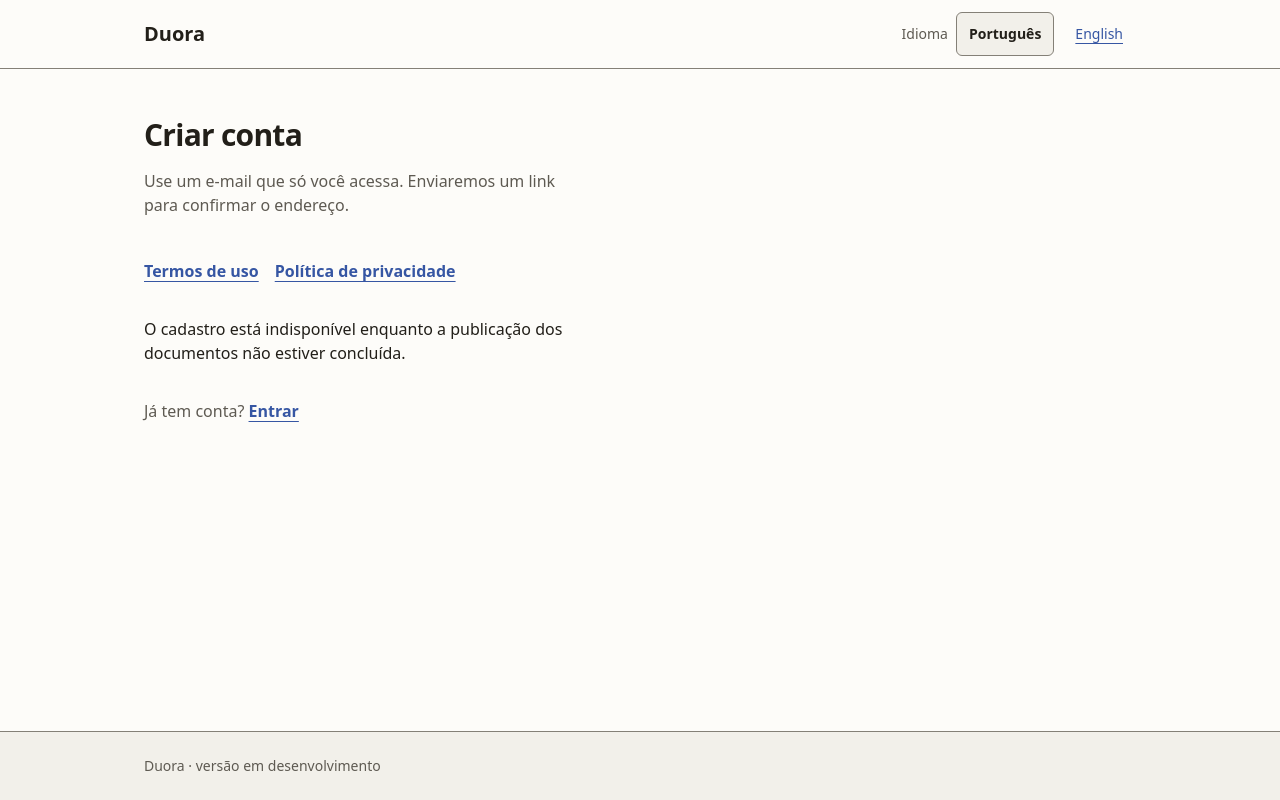
Scenario: tela de cadastro › rechecks publication when returning after a draft has been approved
Expected: the message shows "O cadastro está indisponível", [144,318,562,364]
Click the link "Duora" at (175, 34), box [144,12,205,56]
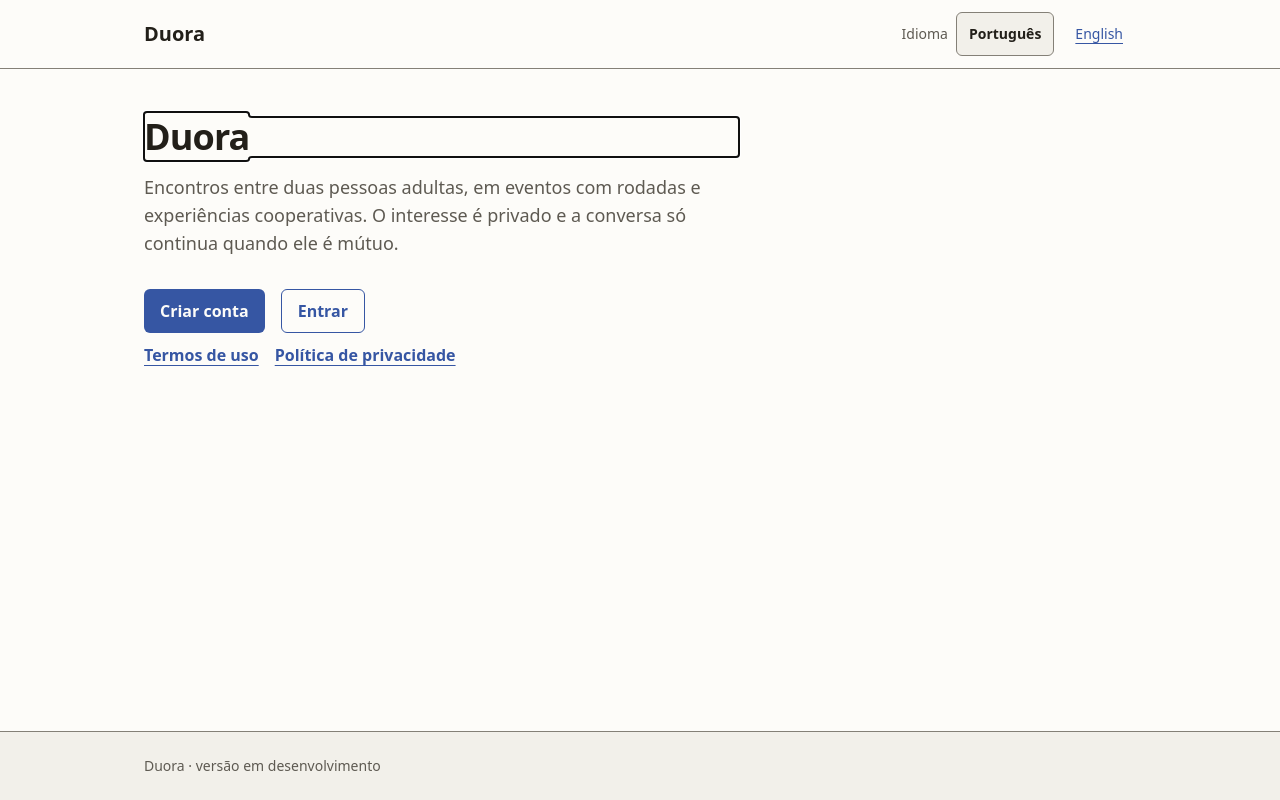
Click the link "Criar conta" at (204, 311), box [144,289,265,333]
(page scrolled)
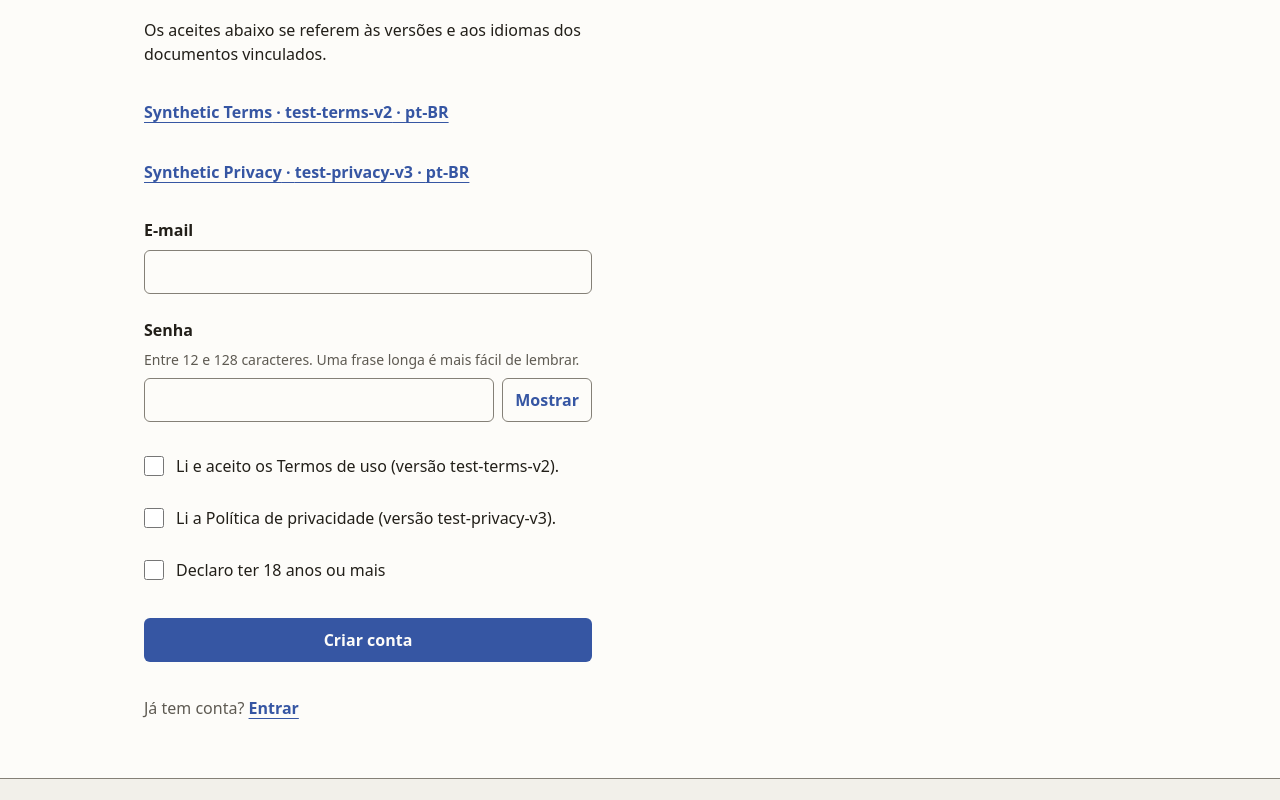
Expected: the password field labelled "Senha" is shown, [144,378,494,422]
